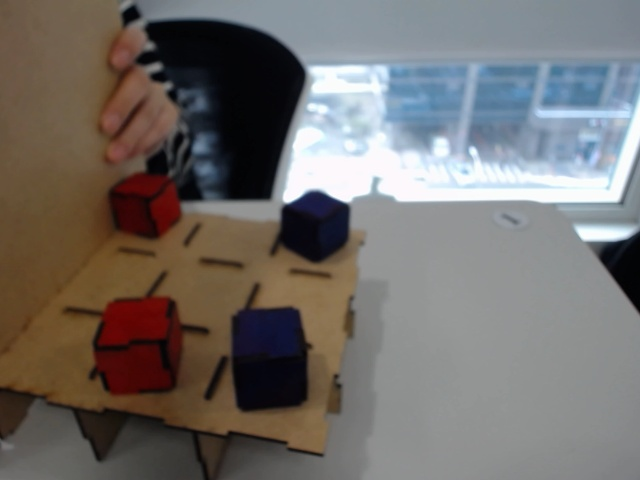blue: (230, 309, 310, 413), (279, 191, 350, 263)
red: (91, 297, 183, 393), (108, 173, 183, 238)
